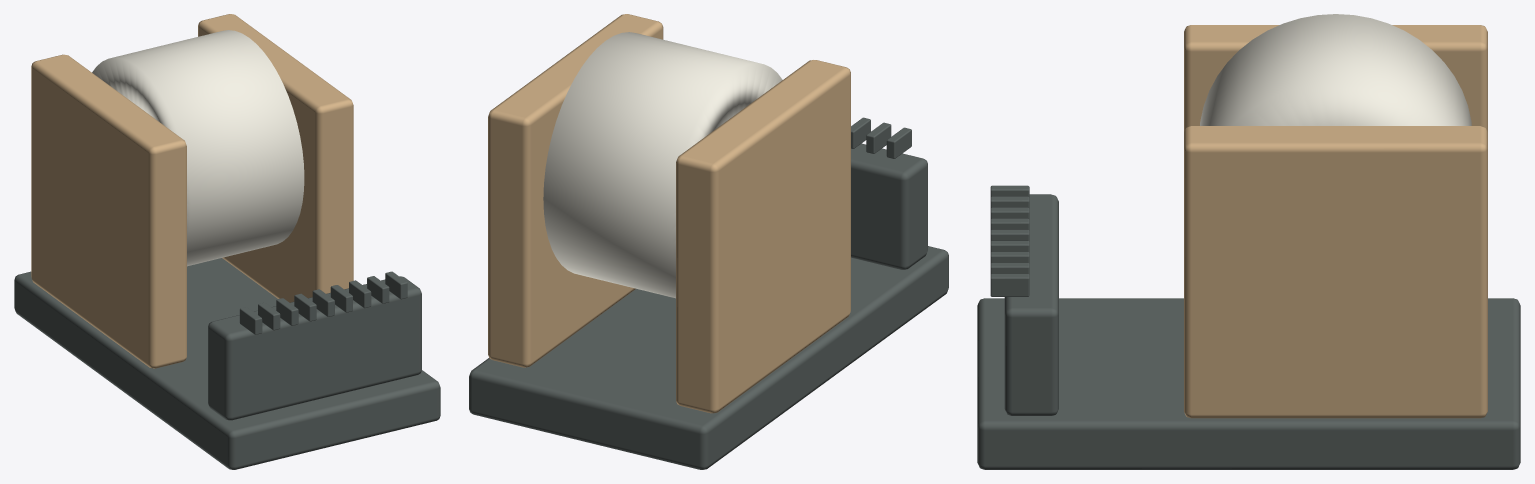
Rendered from public-library-and-reading-garden-public-library-and-r-9df006ba__30938.glb.
The picture shows the model from 3 angles, left to right: view 1: azimuth 30°, elevation 25°; view 2: azimuth 150°, elevation 25°; view 3: azimuth 270°, elevation 25°; orthographic projection. The views are drawn at different scales.
Parts seen in each view (by area): view 1: public-library-and-reading-garden-repair-tape-dispenser; view 2: public-library-and-reading-garden-repair-tape-dispenser; view 3: public-library-and-reading-garden-repair-tape-dispenser.
Part boxes in pixels (x1=…): public-library-and-reading-garden-repair-tape-dispenser: x1=14, y1=14, x2=440, y2=469; public-library-and-reading-garden-repair-tape-dispenser: x1=469, y1=14, x2=948, y2=469; public-library-and-reading-garden-repair-tape-dispenser: x1=977, y1=14, x2=1520, y2=469.
Size of the model in its own units: 0.14 by 0.183 by 0.25.
